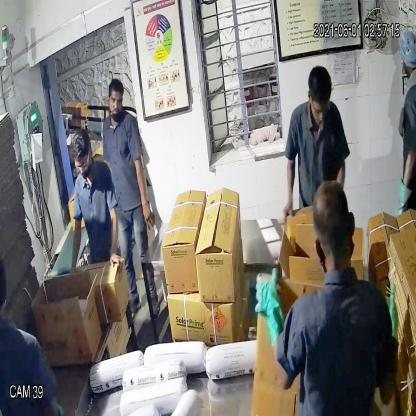goggles: (71, 150, 94, 176)
